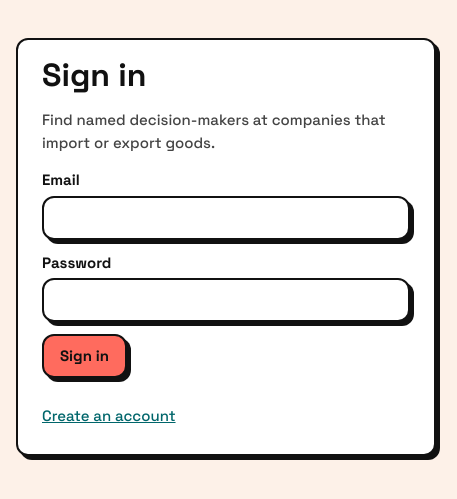
Sign in › shows a plain sign-up form, with no invite code, when sign-up is open
Click the button "Create an account". click: (109, 416)
box: [42, 394, 176, 438]
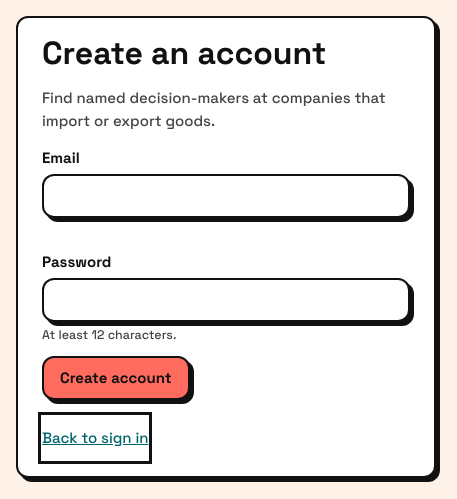
Expected: the text "At least 12 characters." is shown, [42, 327, 176, 343]
